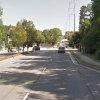Tree: (7, 14, 58, 47)
